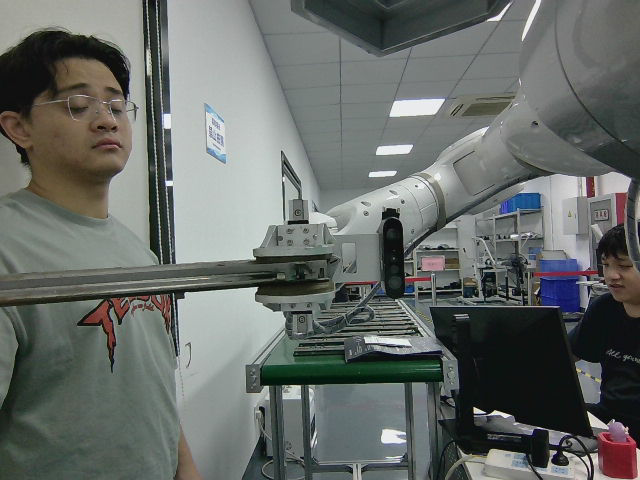down: (0, 252, 328, 307)
